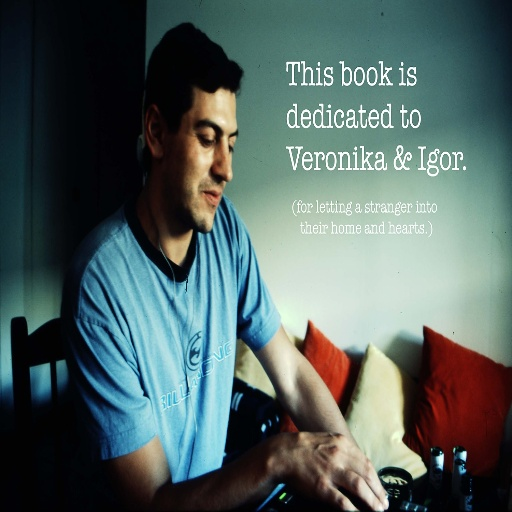hand: (215, 424, 391, 502)
